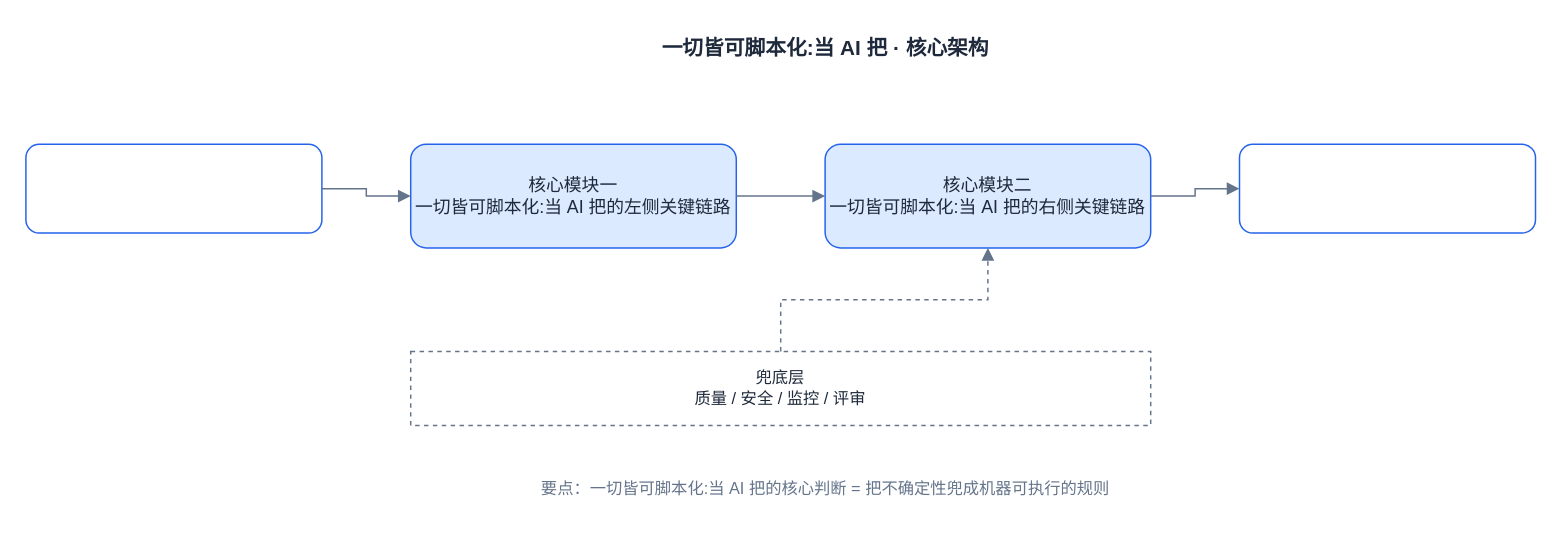
Image size: 1561x546. Some labels were removed from this diagram. Here are the shapes that lost their labels. From the top down, the centre of each, then its label:
At [173,188]: "输入层 需求 / 数据 / 上游调用".
At [1387,188]: "输出 / 结果 产物 / 上线 / 反馈".
